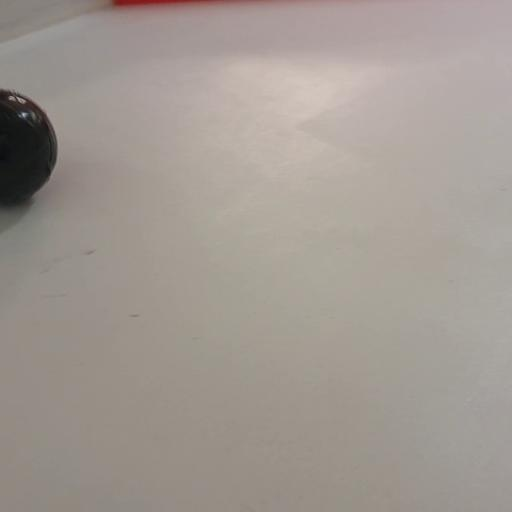dead: (1, 88, 58, 204)
